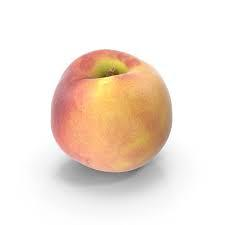non-mango: (50, 48, 172, 173)
